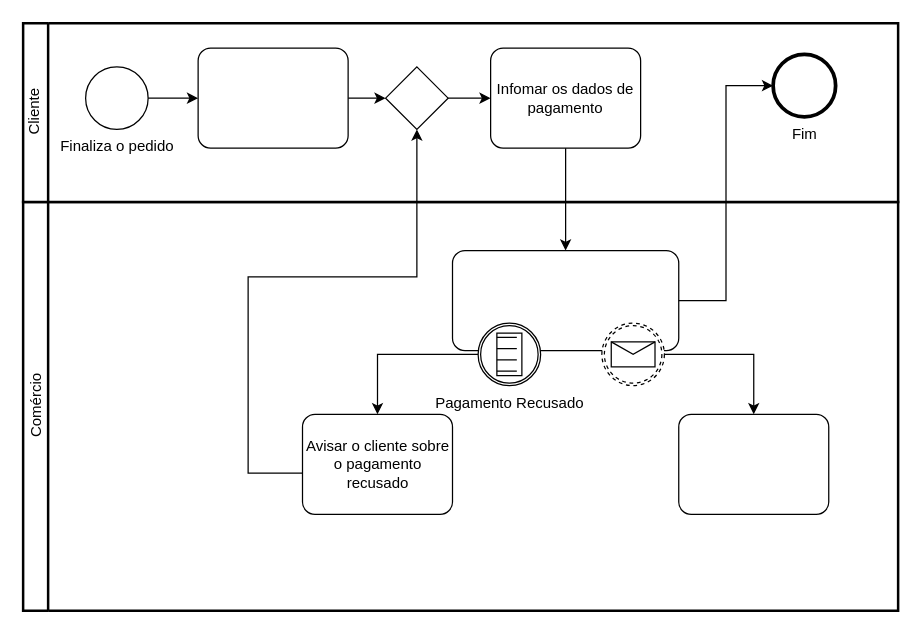
This 920x633 diagram has some shape labels left out. The shapes that lost their labels are listed below. From the top down, each one's box as (x1, y1, x2, y2) in pixels, then its label:
(197, 47, 348, 148): Infomar os dados de entrega
(451, 249, 679, 351): Confirma o pagmaneto
(678, 413, 829, 514): Avisar o cliente que o pagamento está sendo confirmado
